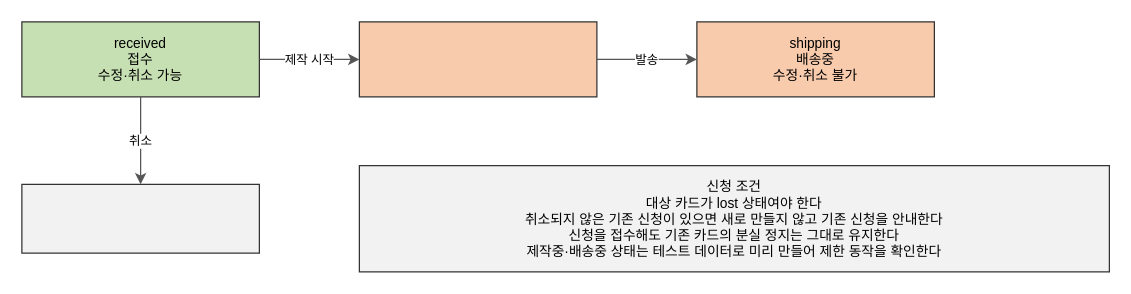
The diagram is 1131 pixels wide and 294 high, and some of its shapes have lost their labels. The shapes that lost their labels are listed below. From the top down, each one's centre as x and y in pixels, then its label:
the point at 477,59: making 제작중 수정·취소 불가
the point at 140,218: cancelled 취소됨
